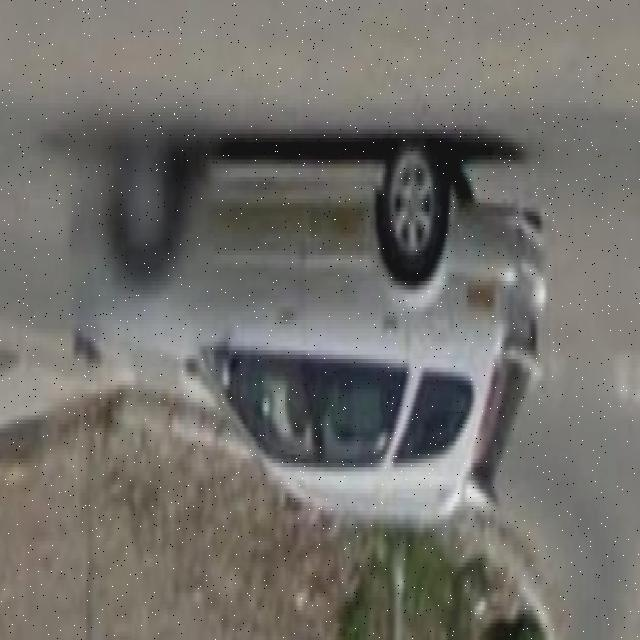car: (80, 137, 554, 474)
